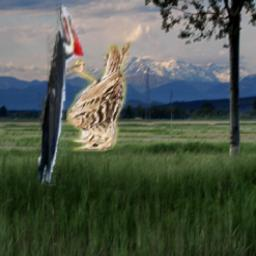Sparrow: (66, 42, 131, 152)
Woodpecker: (38, 0, 84, 186)
